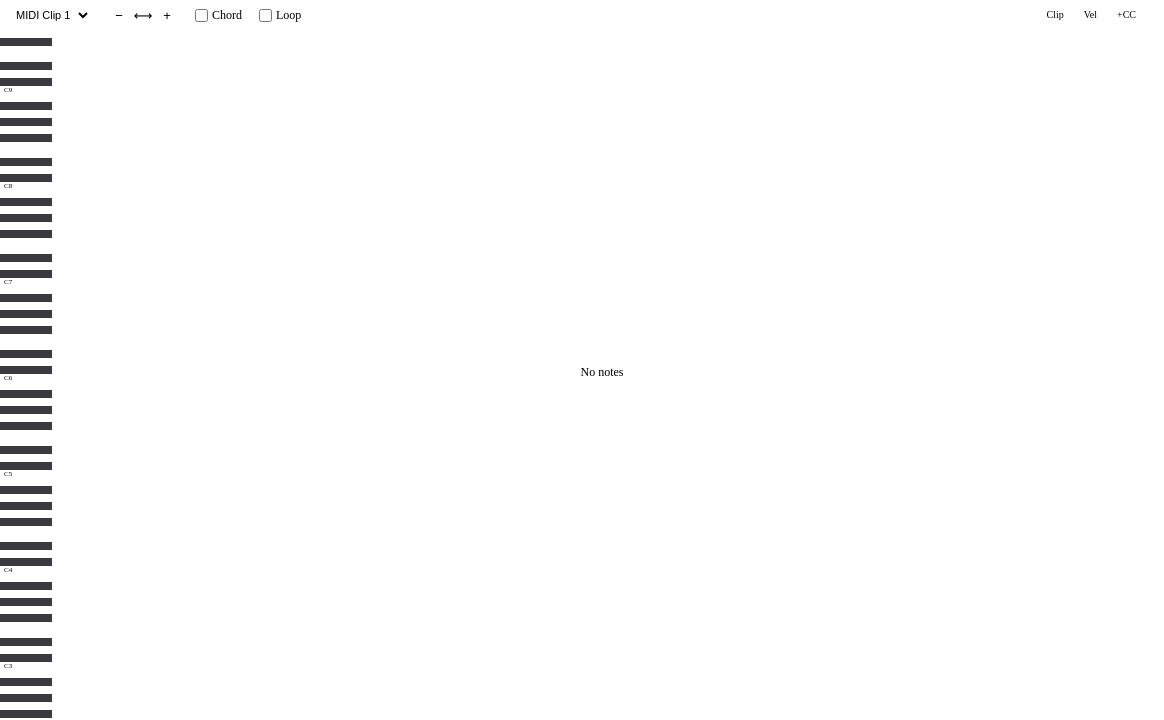
Scenario: PianoRoll › CC Lanes › Add CC lane button opens popover
Click the button titled "Add CC lane" at (1126,15), box left=1109, top=5, right=1144, bottom=25
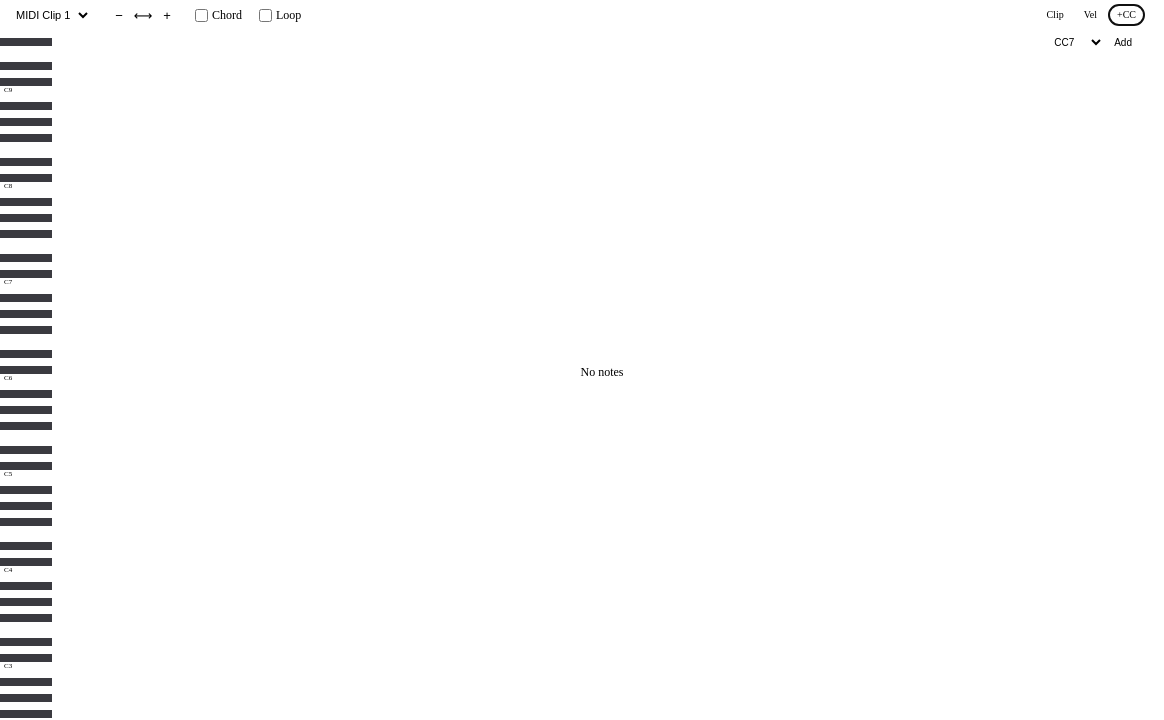
Result: the button "Add" is shown at left=1108, top=36, right=1138, bottom=49
